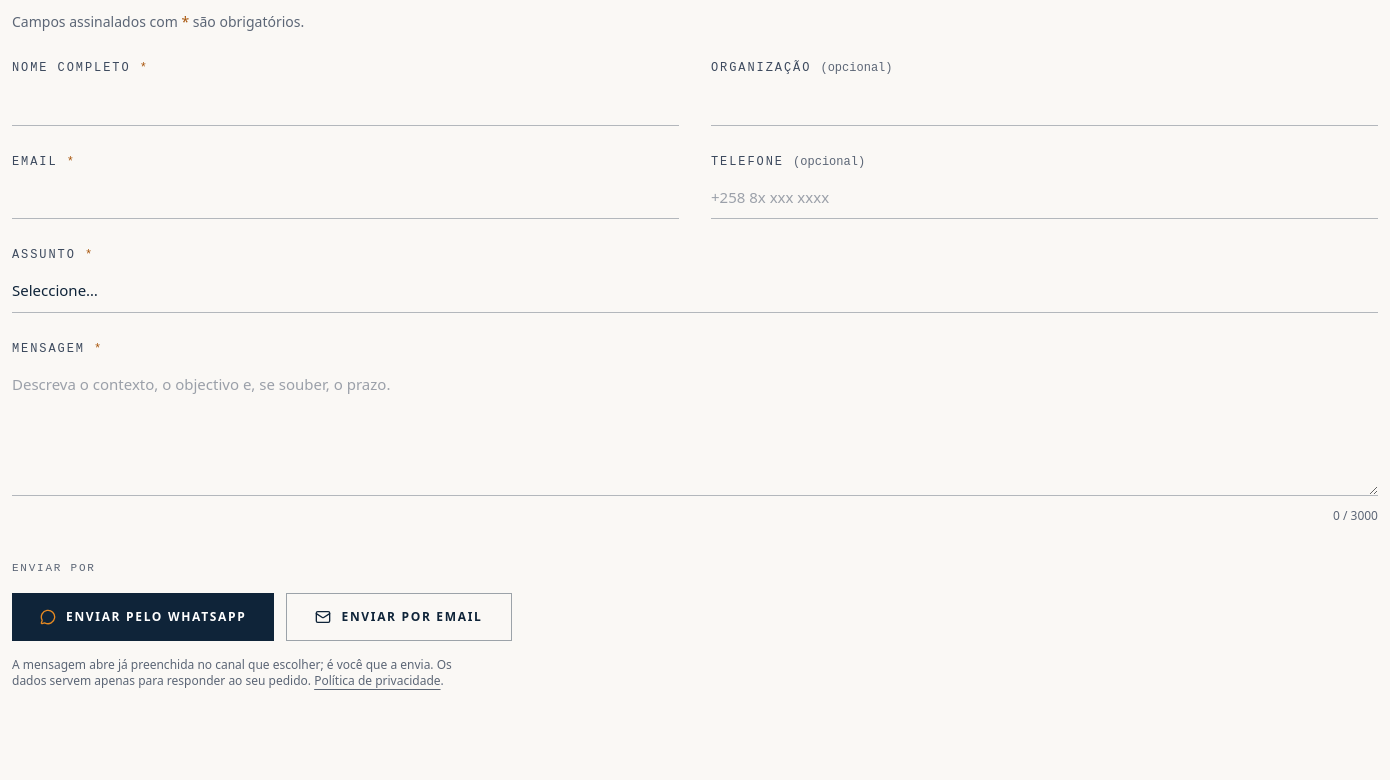
ContactForm — visitor journey › clears a field error as soon as the visitor edits that field and counts message characters
Click the button "Enviar por email" at (399, 616), box x1=286 y1=592 x2=512 y2=640
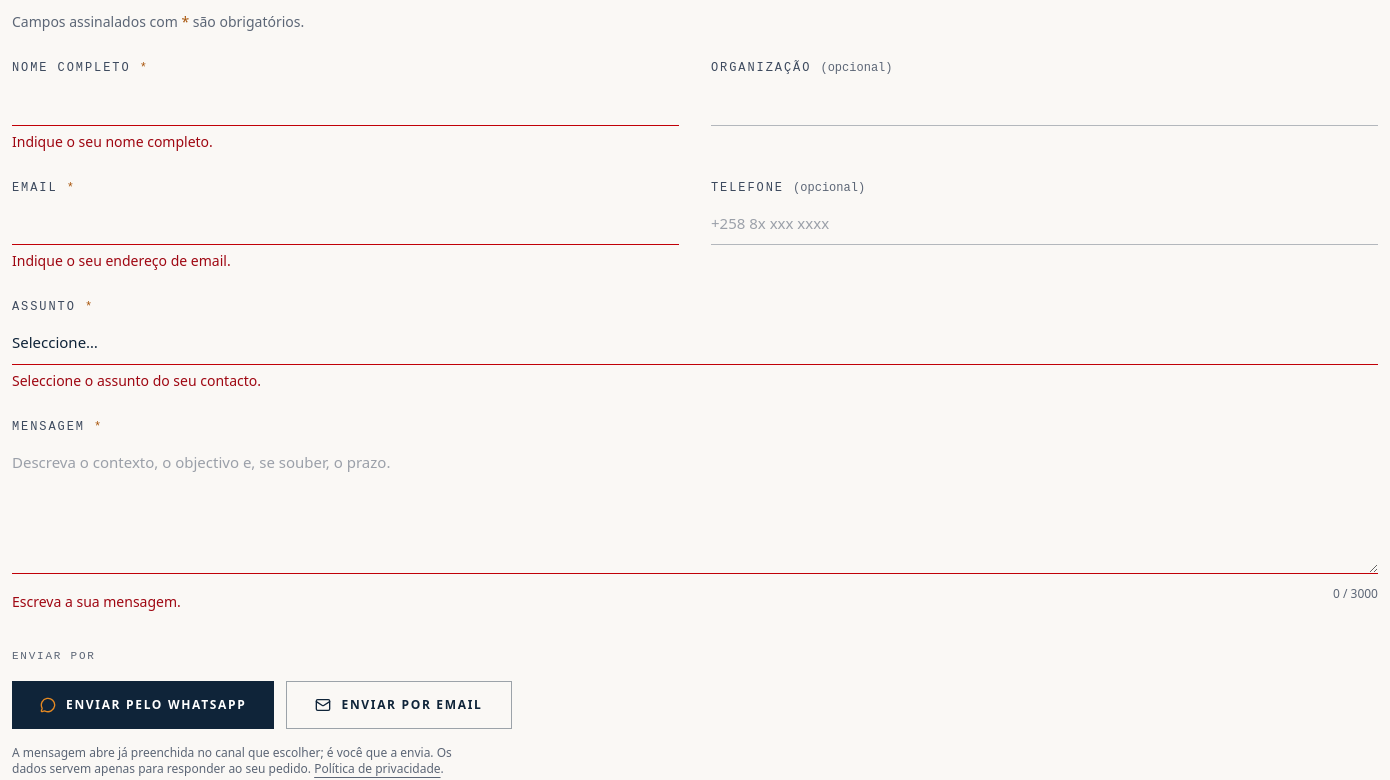
Type "Maria Silva" into the field labelled "Nome completo *" at (346, 104), box x1=12 y1=82 x2=679 y2=126
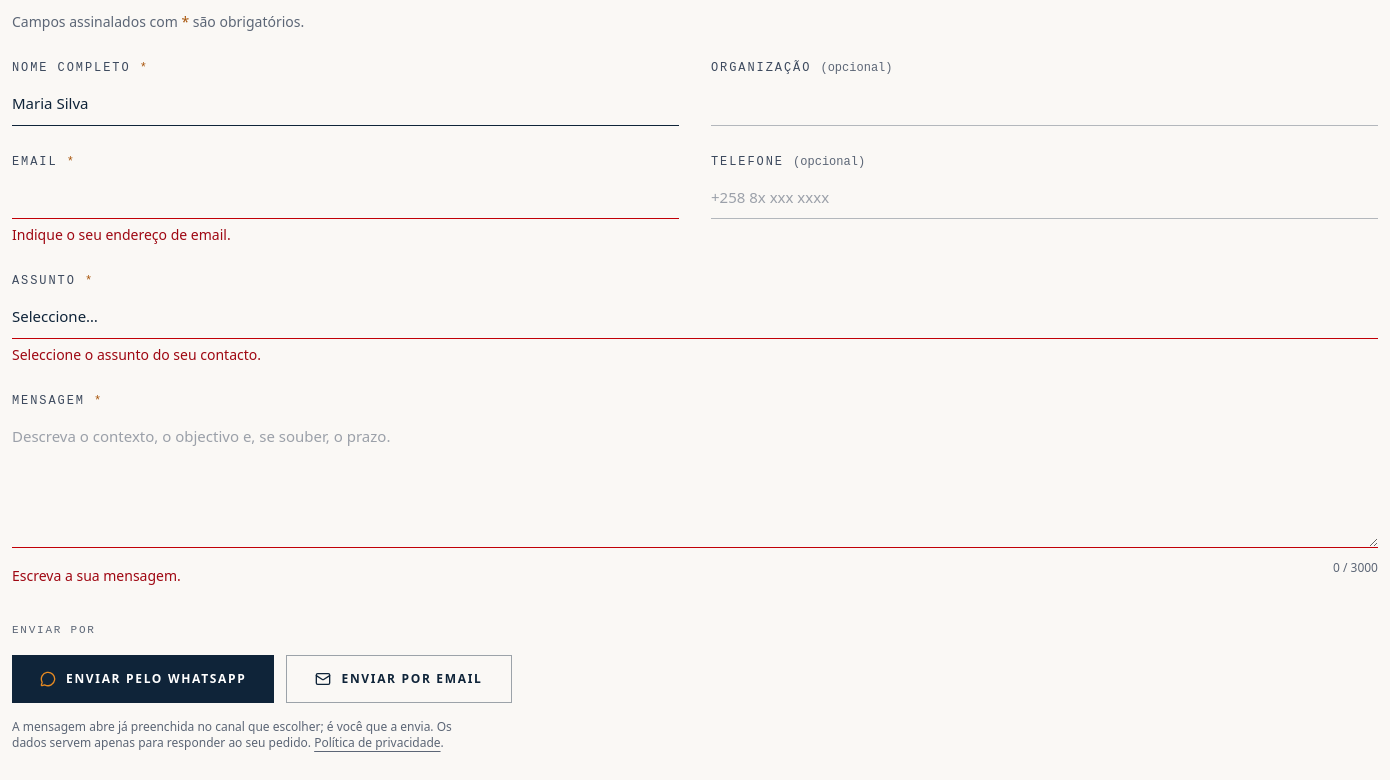
Check: the text "Indique o seu endereço de email." is shown, box x1=12 y1=225 x2=231 y2=244
Check: the text "Indique o seu nome completo." is gone
Type "Olá" into the text box labelled "Mensagem *" at (695, 481), box x1=12 y1=414 x2=1378 y2=548
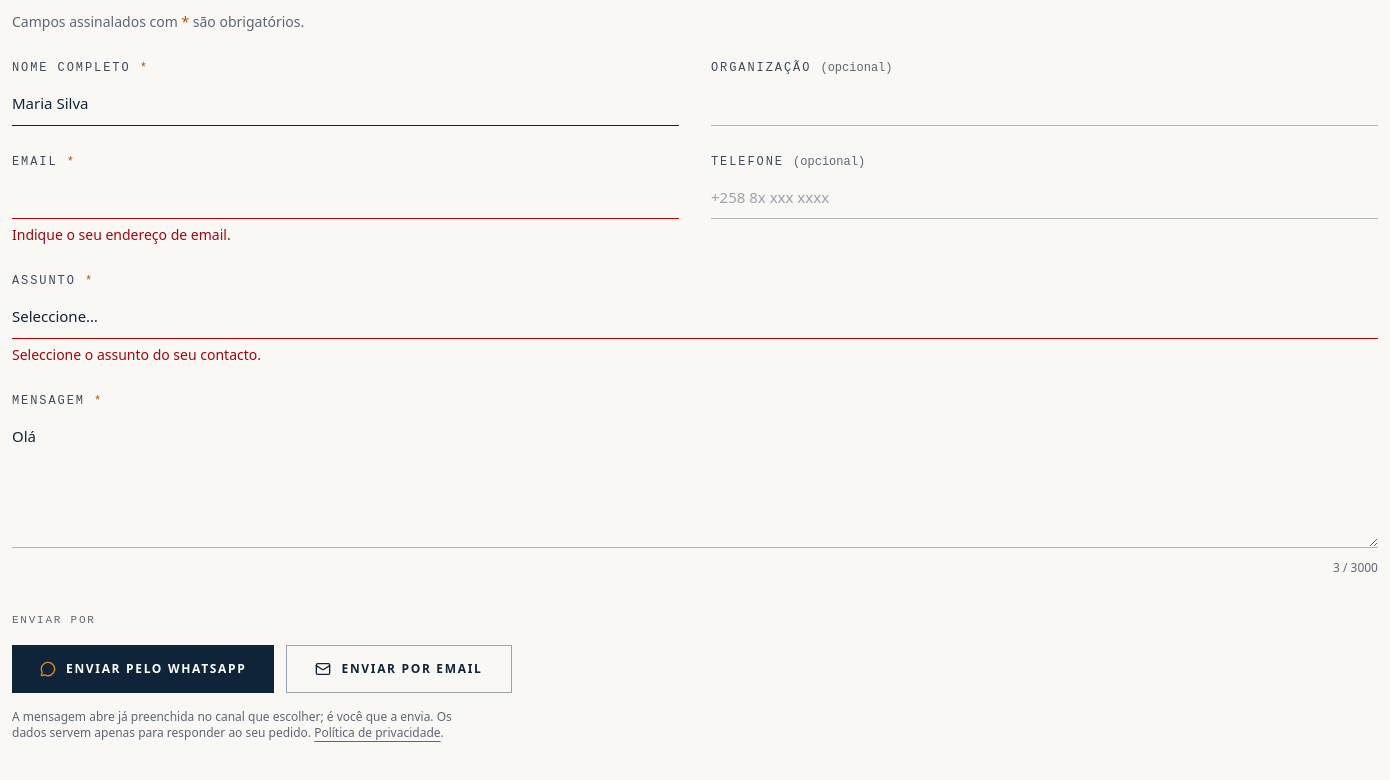
Check: the text "3 / 3000" is shown, box x1=1333 y1=560 x2=1378 y2=576
